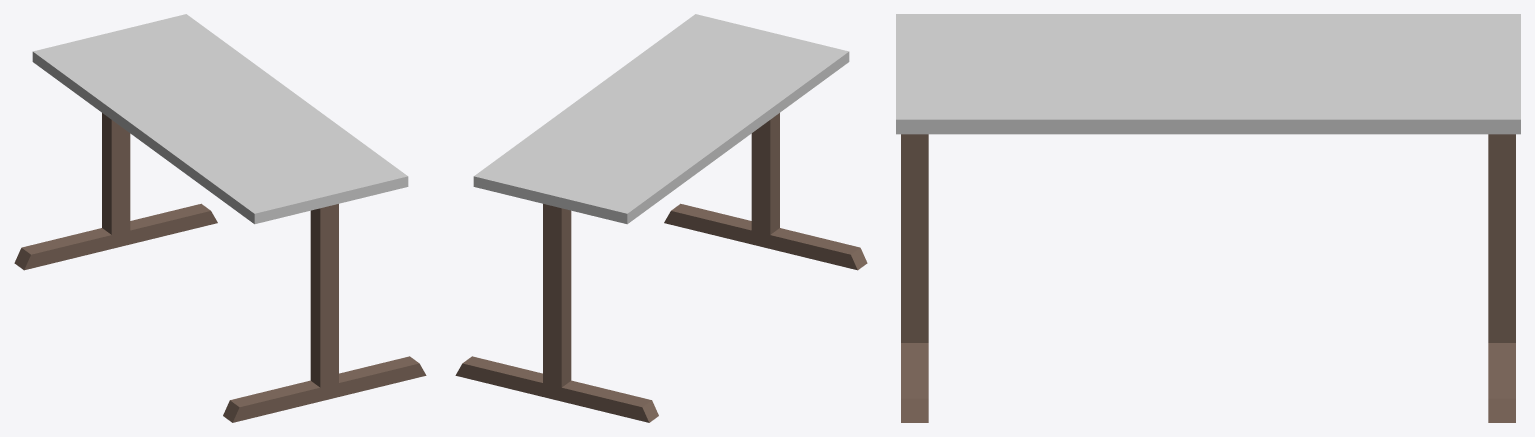
File: Desk.fbx
3 views of the same model, side by side, from view 1: azimuth 30°, elevation 25°; view 2: azimuth 150°, elevation 25°; view 3: azimuth 270°, elevation 25° (orthographic). The views are drawn at different scales.
Visible parts, largest first — view 1: pCube135, pCube136, pCube138, pCube139, pCube137; view 2: pCube135, pCube137, pCube138, pCube139, pCube136; view 3: pCube135, pCube137, pCube136, pCube139, pCube138.
Part boxes in pixels (x1,y1,x2,y2): pCube135: [32, 14, 408, 224]; pCube136: [310, 204, 338, 388]; pCube138: [223, 356, 426, 422]; pCube139: [14, 203, 217, 270]; pCube137: [102, 113, 130, 236]; pCube135: [473, 14, 849, 224]; pCube137: [543, 204, 571, 388]; pCube138: [664, 203, 867, 270]; pCube139: [455, 356, 658, 422]; pCube136: [751, 113, 779, 236]; pCube135: [896, 14, 1520, 134]; pCube137: [1488, 134, 1515, 342]; pCube136: [901, 134, 928, 342]; pCube139: [1488, 343, 1515, 422]; pCube138: [901, 343, 928, 422].
Size of the model in its own units: 50.5 by 51.13 by 100.
